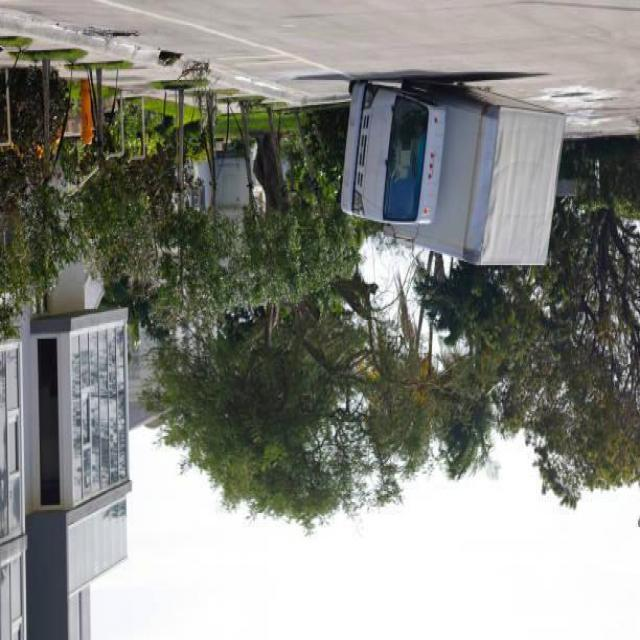severe: (333, 73, 571, 274)
